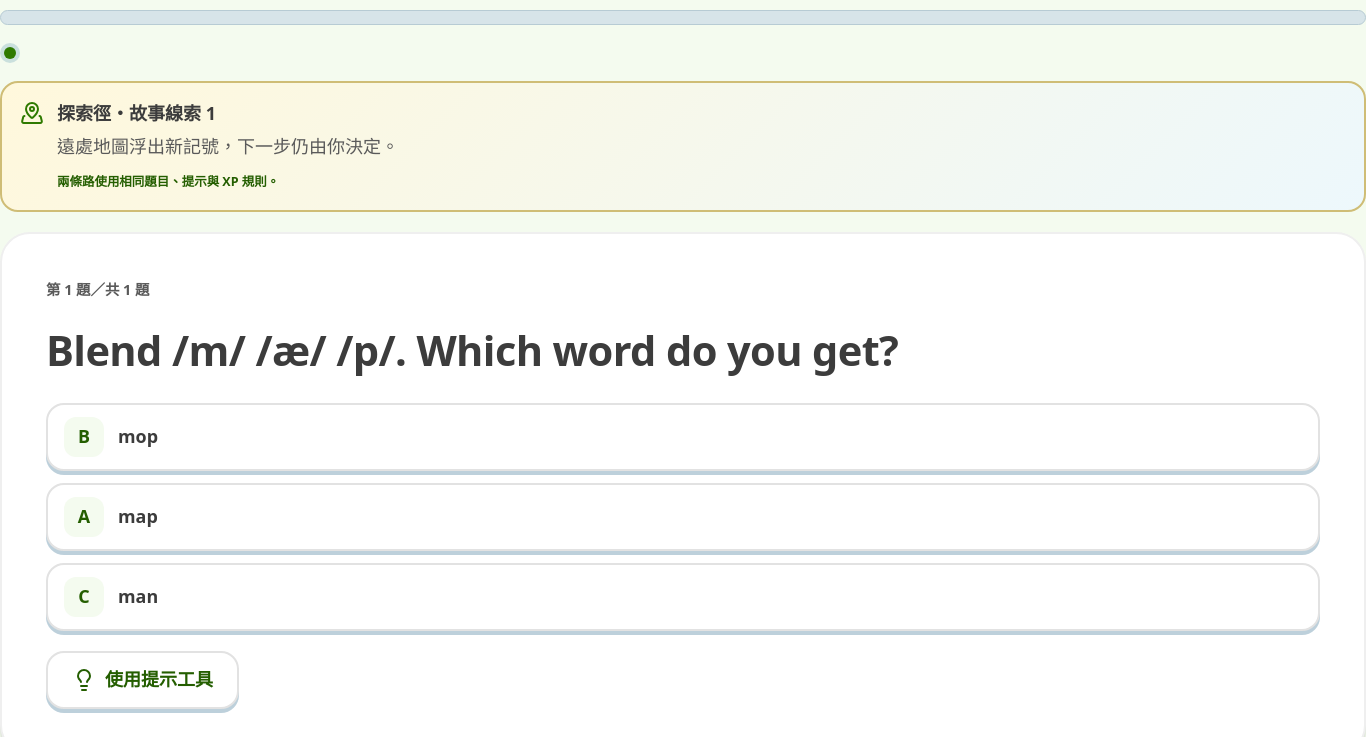
Scenario: BattleSession › turns word-bridge into a step-by-step clue instead of repeating the stored hint
(page scrolled)
Expected: the heading "Blend /m/ /æ/ /p/. Which word do you get?" is shown, [46,322,898,378]
Expected: the text "探索徑・故事線索 1" is shown, [57,101,216,125]
Click the button "使用提示工具": [142, 680] box [46,651,239,709]
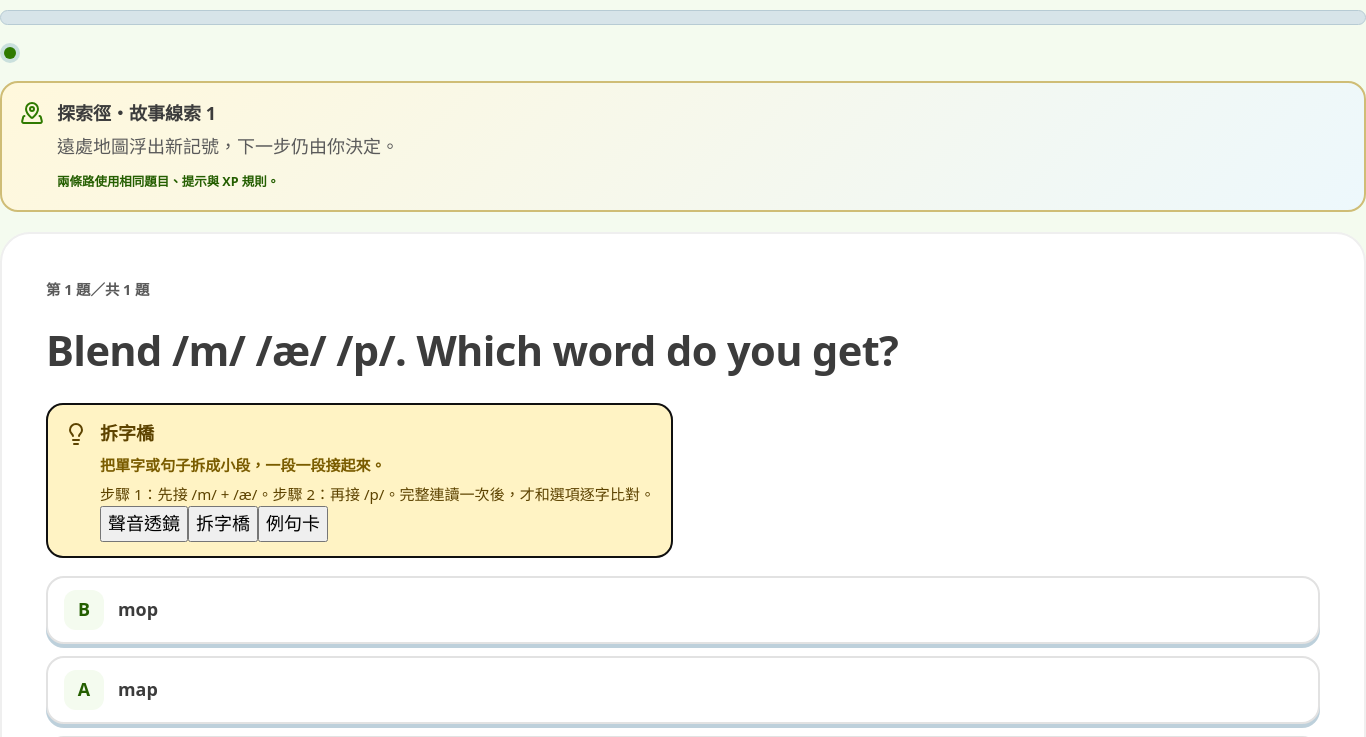
Result: the text "拆字橋" is shown at [100,421,154,445]
Result: the text "把單字或句子拆成小段，一段一段接起來。" is shown at [100,455,386,475]
Result: the text "步驟 1：先接 /m/ + /æ/。步驟 2：再接 /p/。完整連讀一次後，才和選項逐字比對。" is shown at [100,482,655,506]
